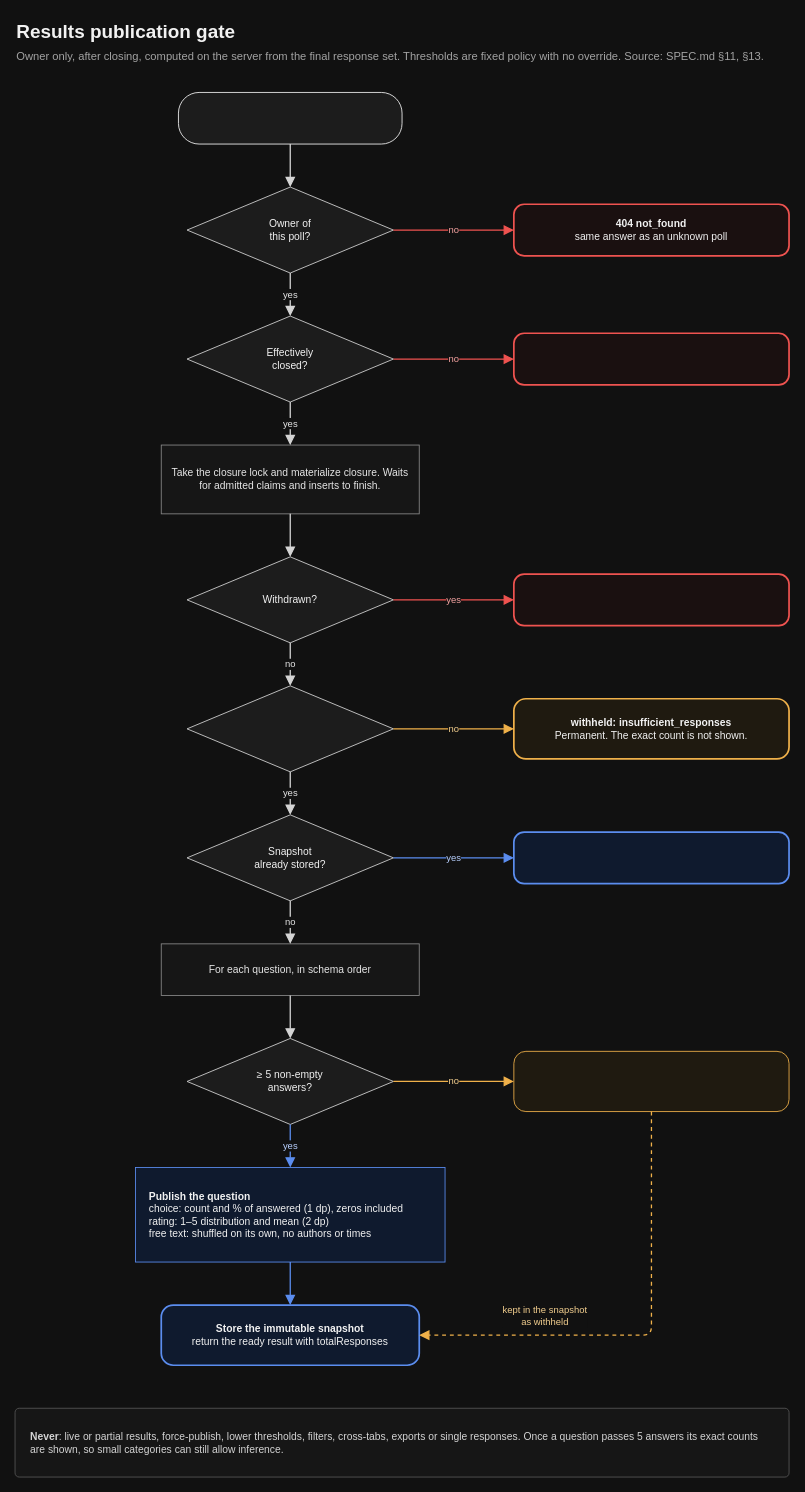
The diagram is 805 pixels wide and 1492 high, and some of its shapes have lost their labels. Here are the shapes that lost their labels. From the top down, the centre of each, then its label:
[290,118]: Owner asks for results
[651,358]: 409 results_not_closed no count, text, aggregate or progress
[651,599]: 410 poll_withdrawn no results, ever
[289,728]: ≥ 5 accepted responses?
[651,857]: Return the same snapshot results never change after they are built
[651,1081]: Question withheld: insufficient_answers No counts, mean or texts for it.
